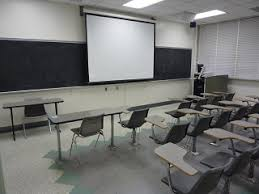desk: (46, 110, 122, 154), (147, 141, 200, 192), (202, 123, 255, 165), (0, 99, 65, 133), (140, 113, 181, 140), (173, 105, 207, 130), (226, 116, 258, 137)
